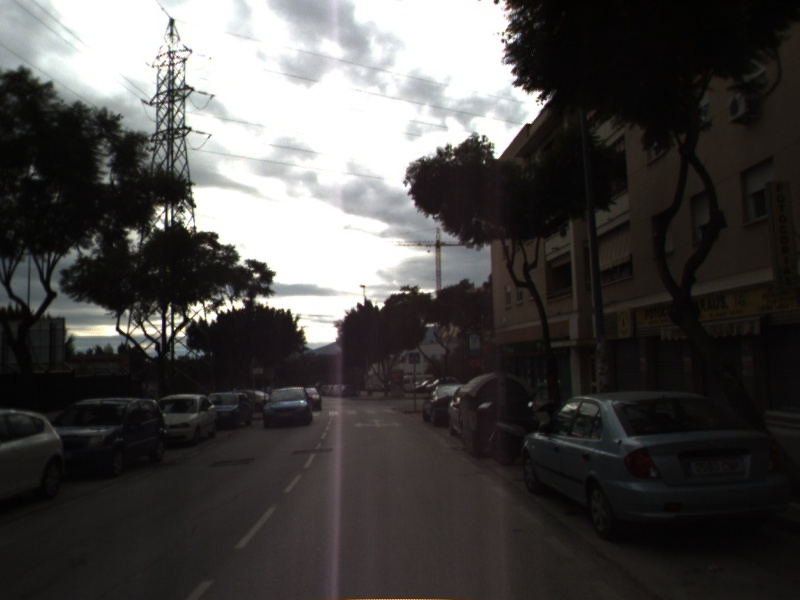STRAIGHT_LEFT_RIGHT: (351, 416, 405, 430)
